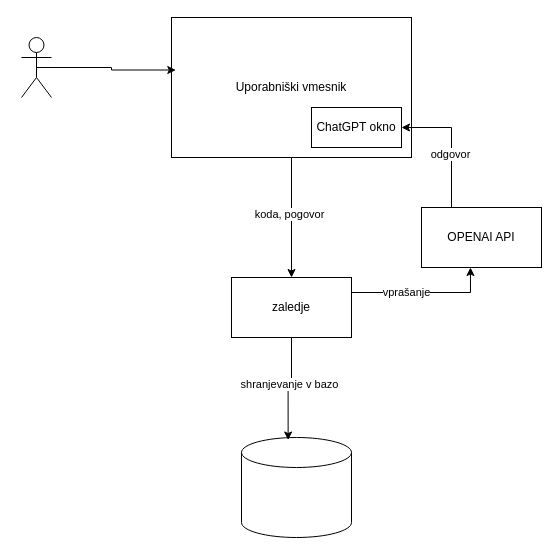
Some shapes in this 559 by 555 pixel diagram are drawn without their labels. Each missing label, with the box of its shape:
Microsoft Azure baza: (240, 436, 352, 538)
učenec: (20, 36, 52, 98)
